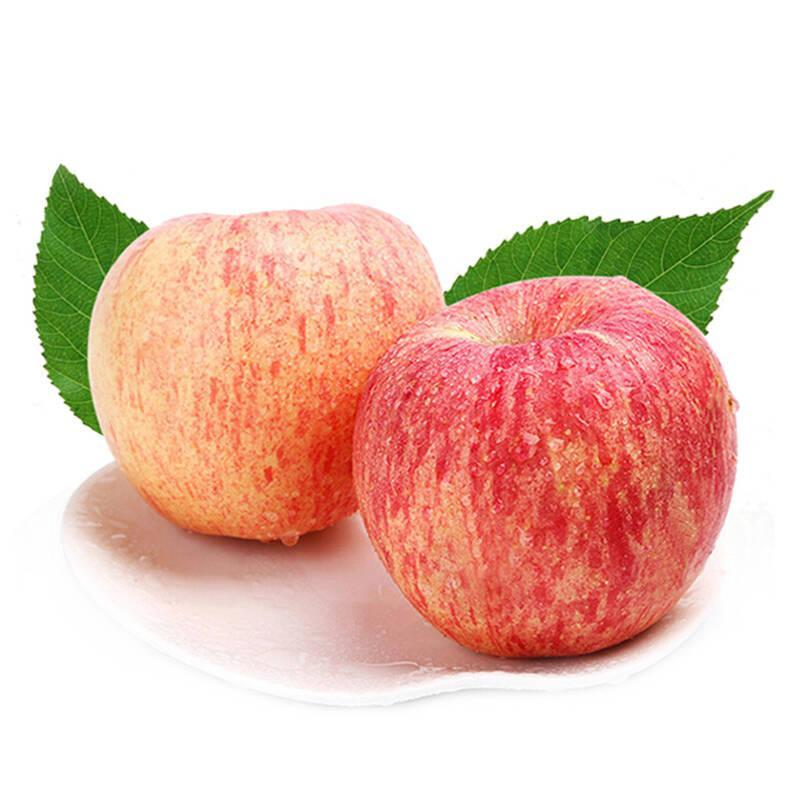apple: (358, 266, 754, 672), (90, 199, 452, 542)
